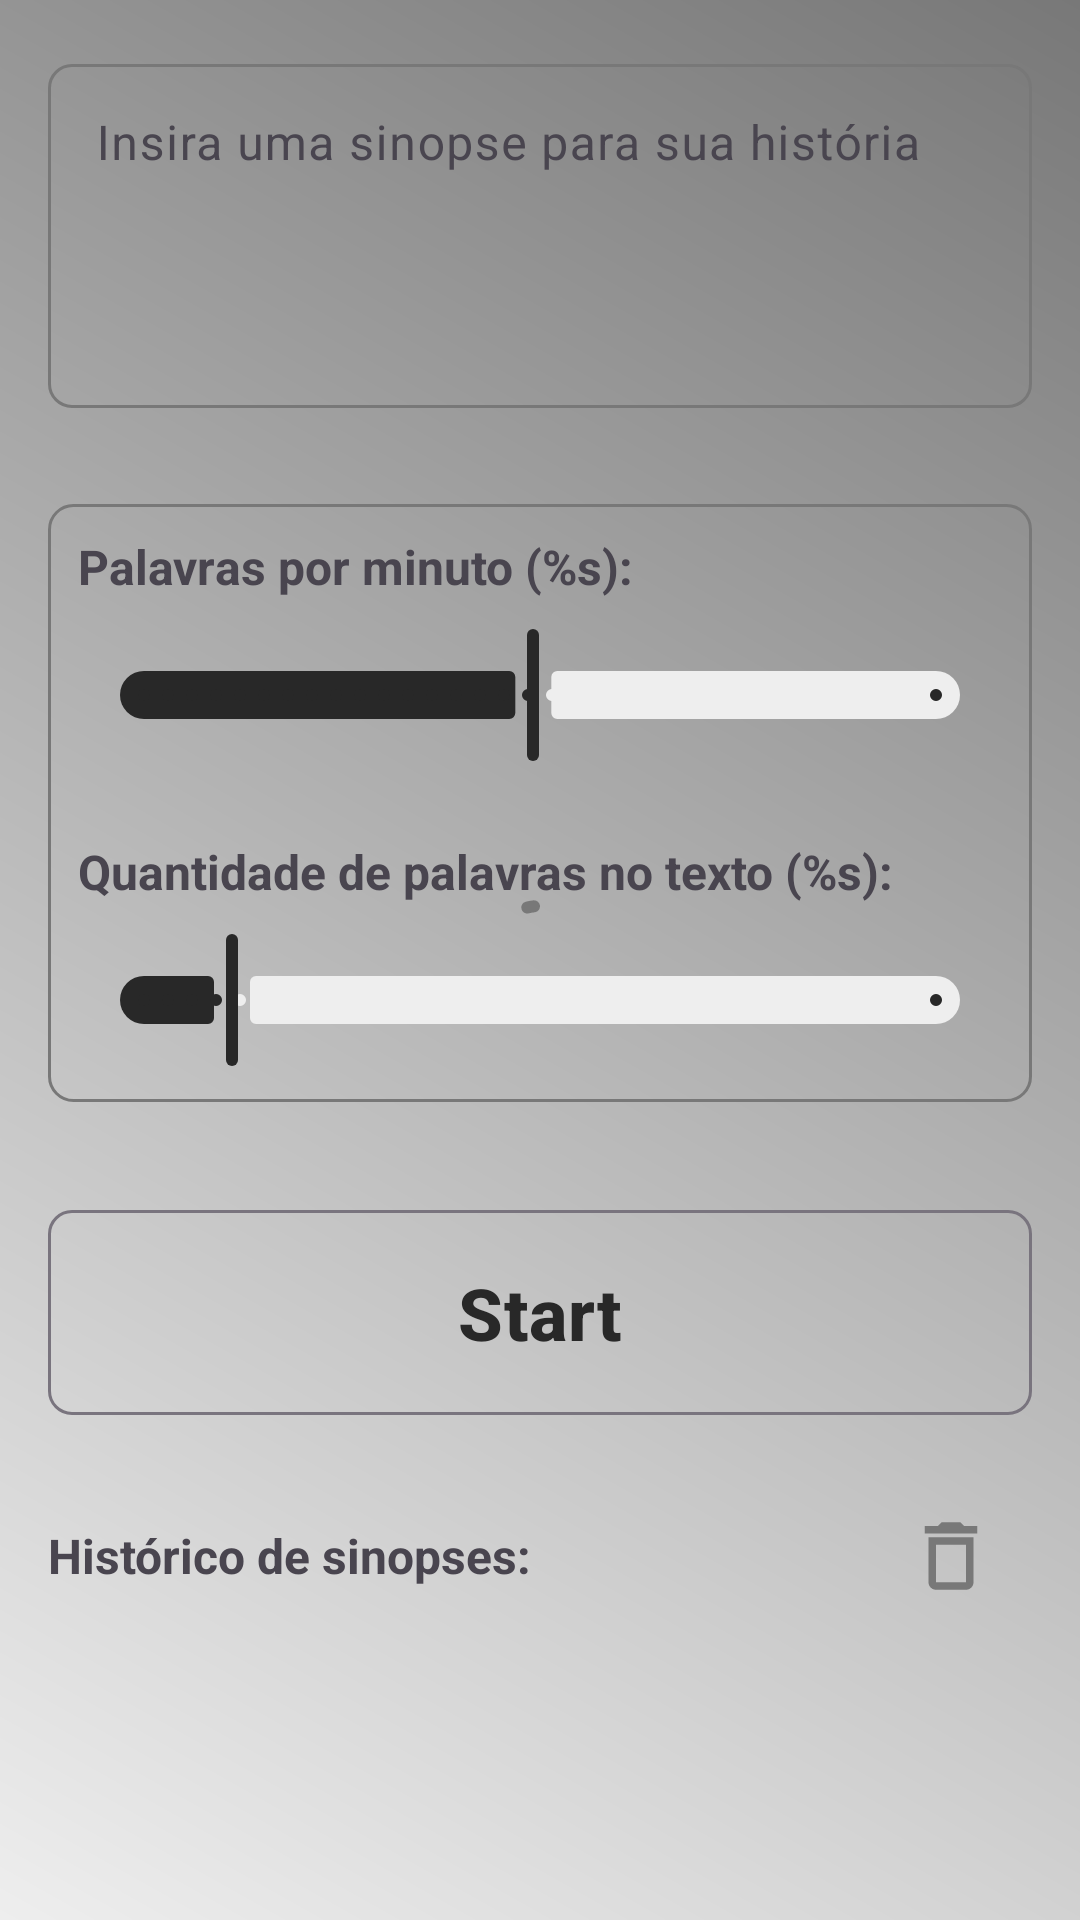

Locate icon controls on the screen. Image size 1080px x 1920px, boxes as (x1, y1, x2, y2).
Apagar todo histórico: (925, 1522, 977, 1590)
